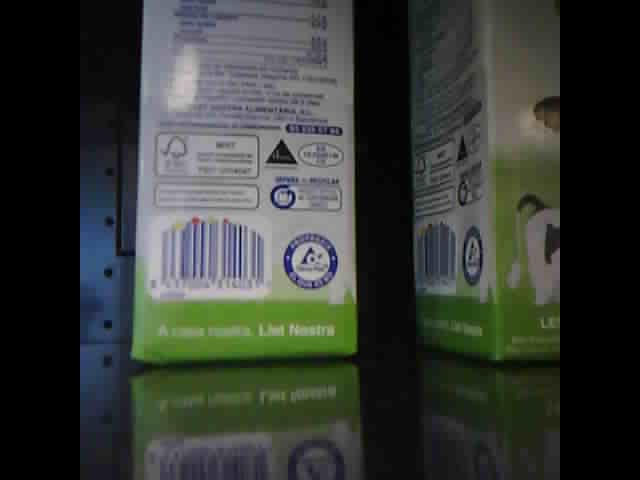leche: (131, 5, 354, 369), (413, 7, 558, 360)
